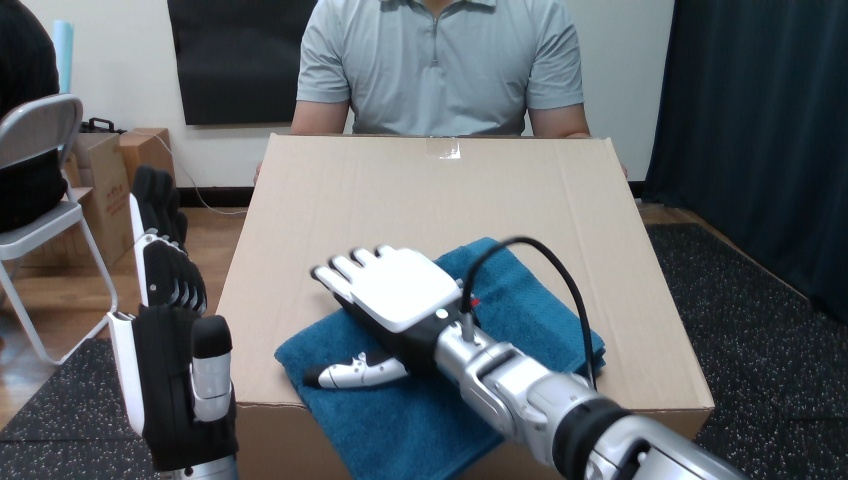left robot hand: (311, 236, 744, 479), (470, 242, 588, 380)
